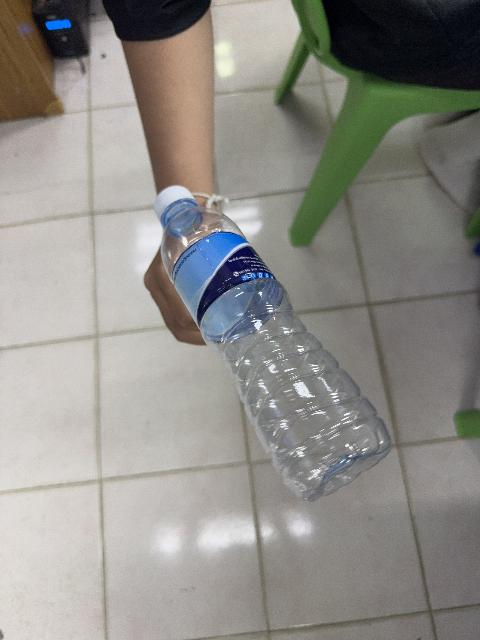bottle: (155, 187, 391, 500)
